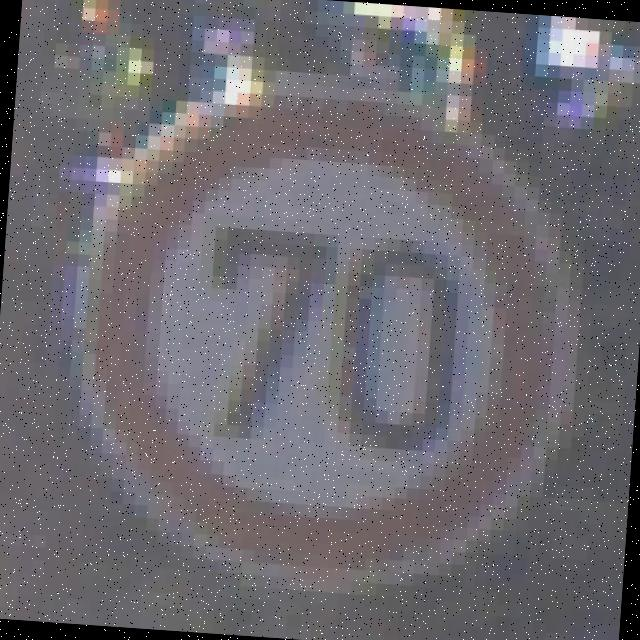Ograniczenie predkosci do 70: (80, 76, 566, 590)
